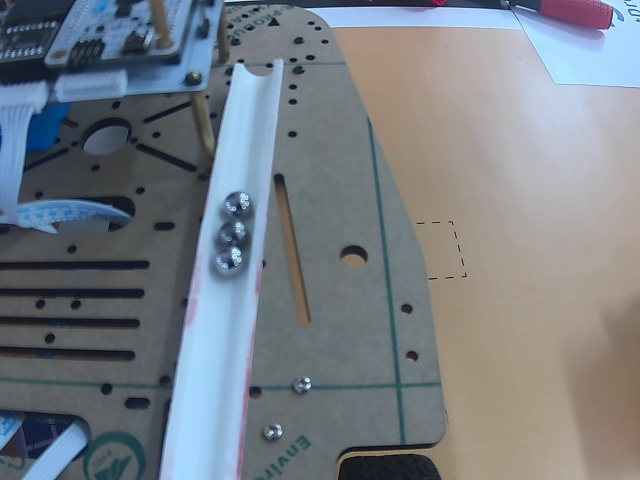steelball: (213, 247, 243, 275), (224, 191, 251, 219), (220, 221, 247, 244)
